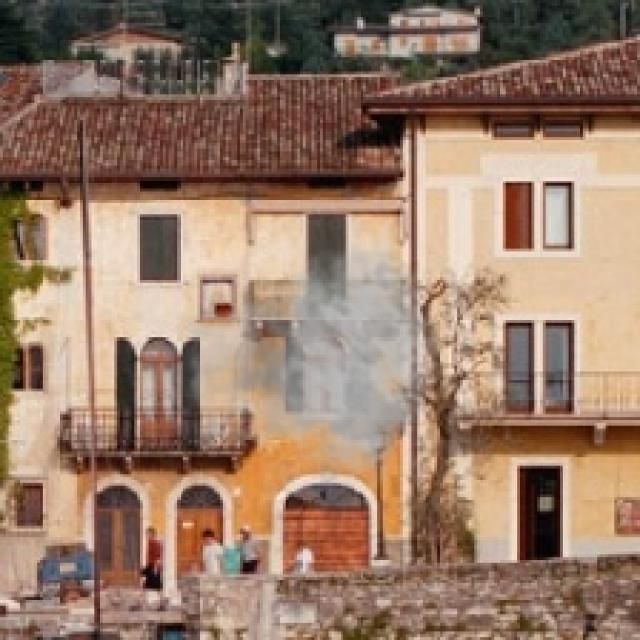Smoke: (168, 234, 443, 497)
